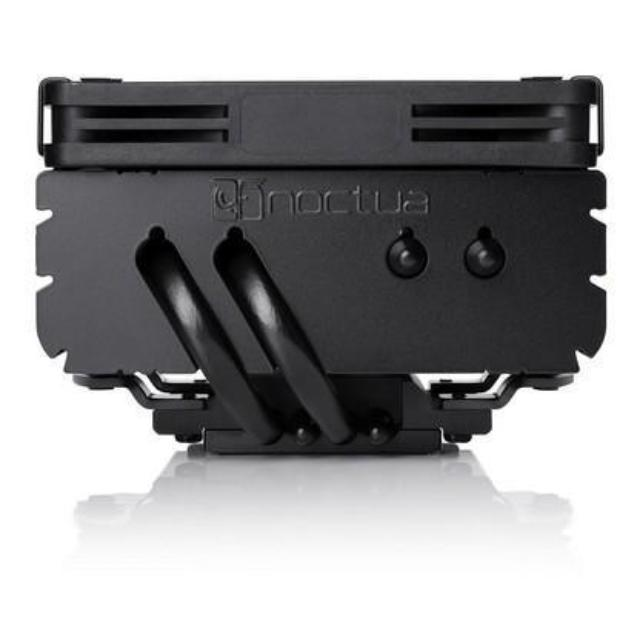CPU_Fan: (37, 70, 608, 458)
